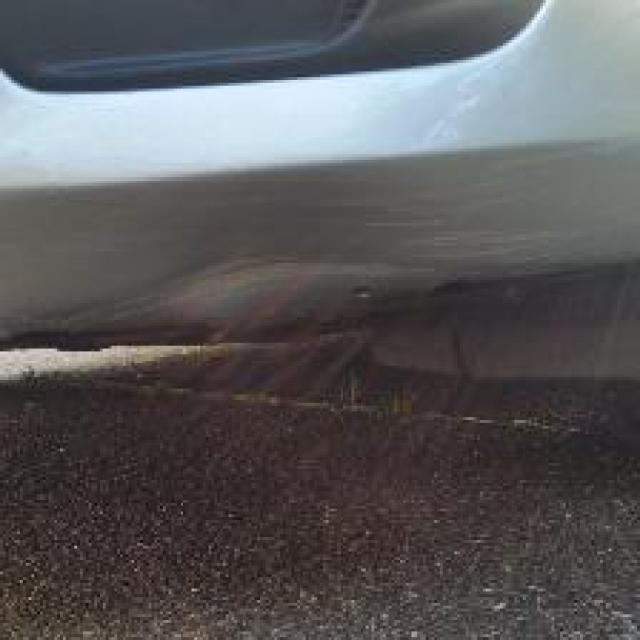damaged: (39, 248, 492, 342)
